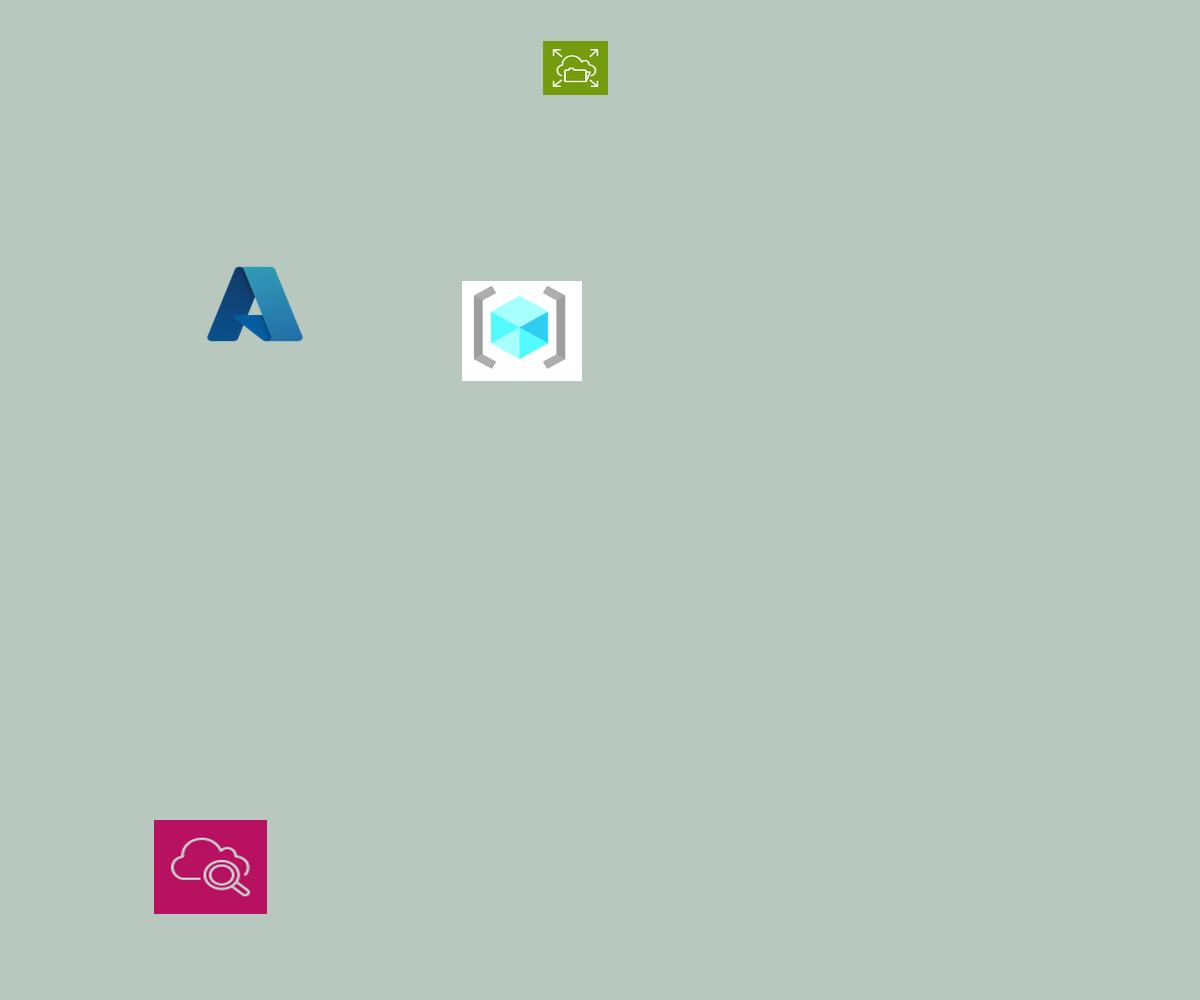AWS-CloudWatch: (154, 820, 267, 914)
AWS-EFS: (543, 41, 608, 95)
Azure_resource_group: (462, 281, 582, 381)
Azure_services: (203, 261, 307, 347)
